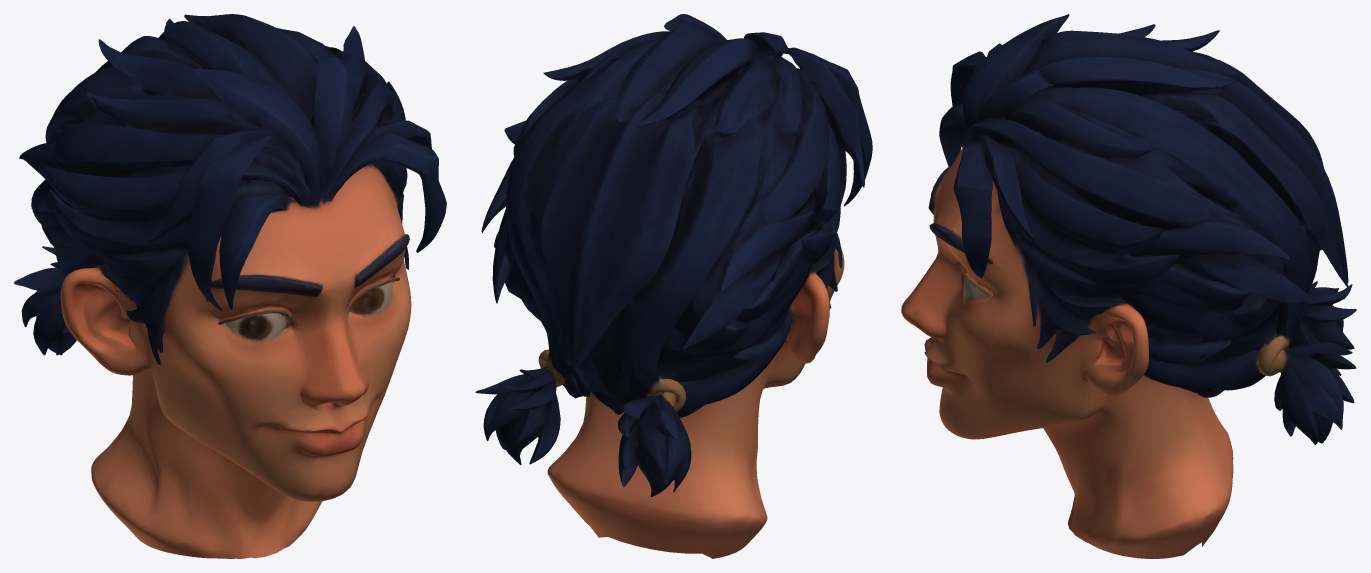
The model's file is head-40k.glb.
3 views of the same model, side by side, from view 1: azimuth 30°, elevation 25°; view 2: azimuth 150°, elevation 25°; view 3: azimuth 270°, elevation 25° (orthographic). The views are drawn at different scales.
Bounding box in the file's own units: 0.695 × 0.9715 × 0.836.
Materials: 1 (1 with a texture image).
